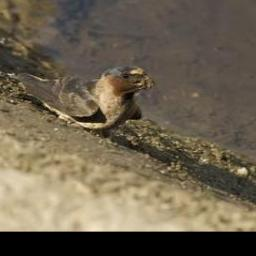Swallow: (13, 64, 154, 133)
